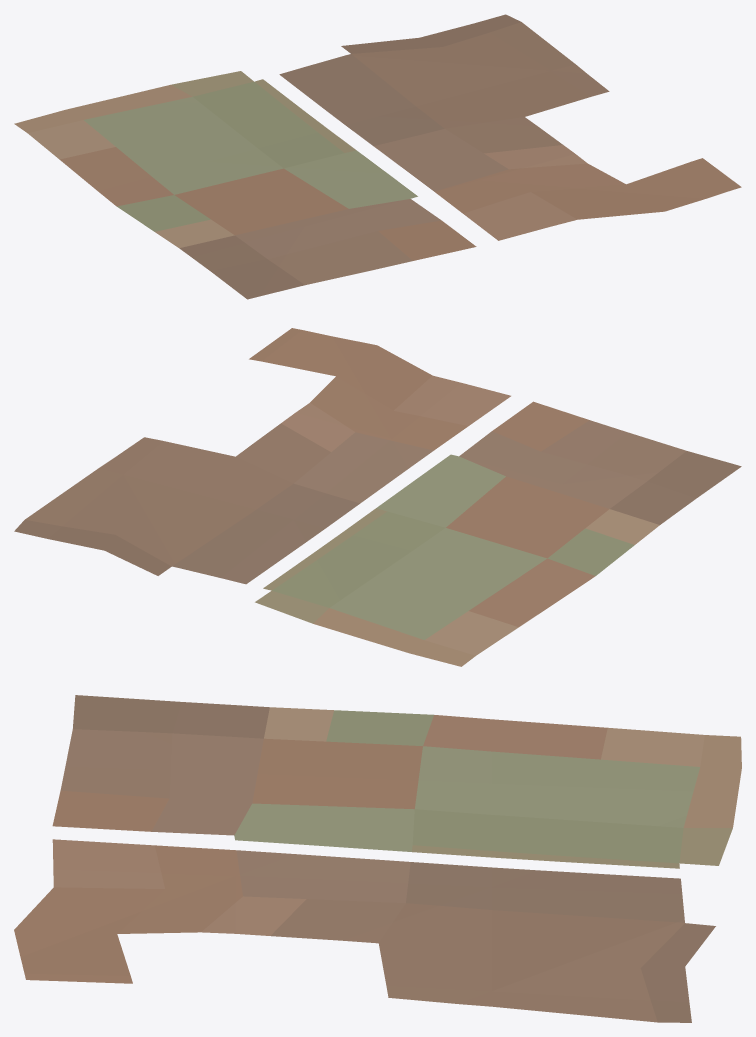
File: farm_24_34_soil.glb
3 renders of one model, top to bottom at view 1: azimuth 30°, elevation 25°; view 2: azimuth 150°, elevation 25°; view 3: azimuth 270°, elevation 25°, orthographic. The views are drawn at different scales.
Parts seen in each view (by area): view 1: geometry_0; view 2: geometry_0; view 3: geometry_0.
Part boxes in pixels (x1,y1,x2,y2): geometry_0: [14, 14, 741, 299]; geometry_0: [14, 328, 741, 666]; geometry_0: [14, 695, 741, 1022].
Size of the model in its own units: 232 by 13.44 by 227.
